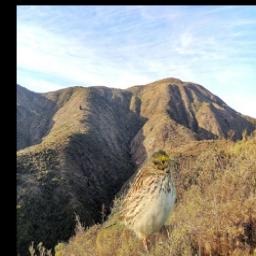Sparrow: (103, 147, 179, 254)
